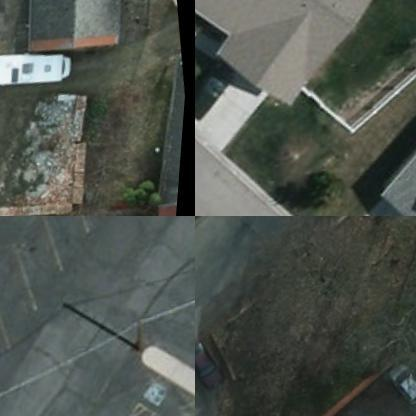car: (195, 51, 249, 128), (195, 333, 230, 395), (383, 357, 415, 411)
